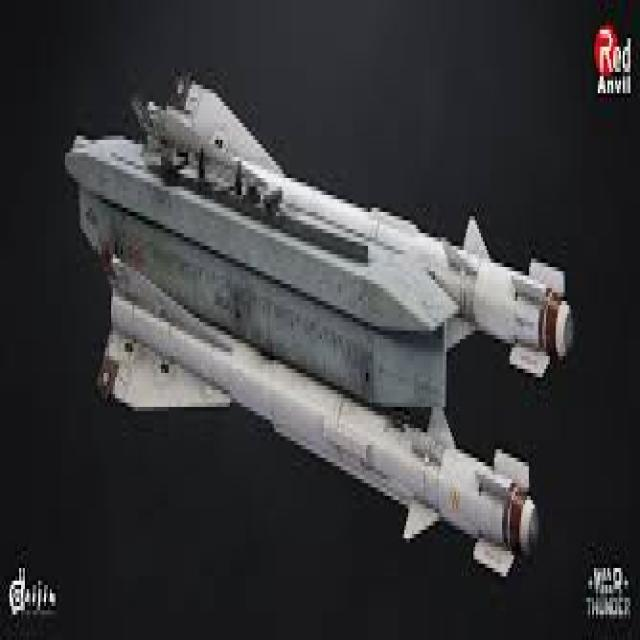missile: (69, 80, 582, 580)
